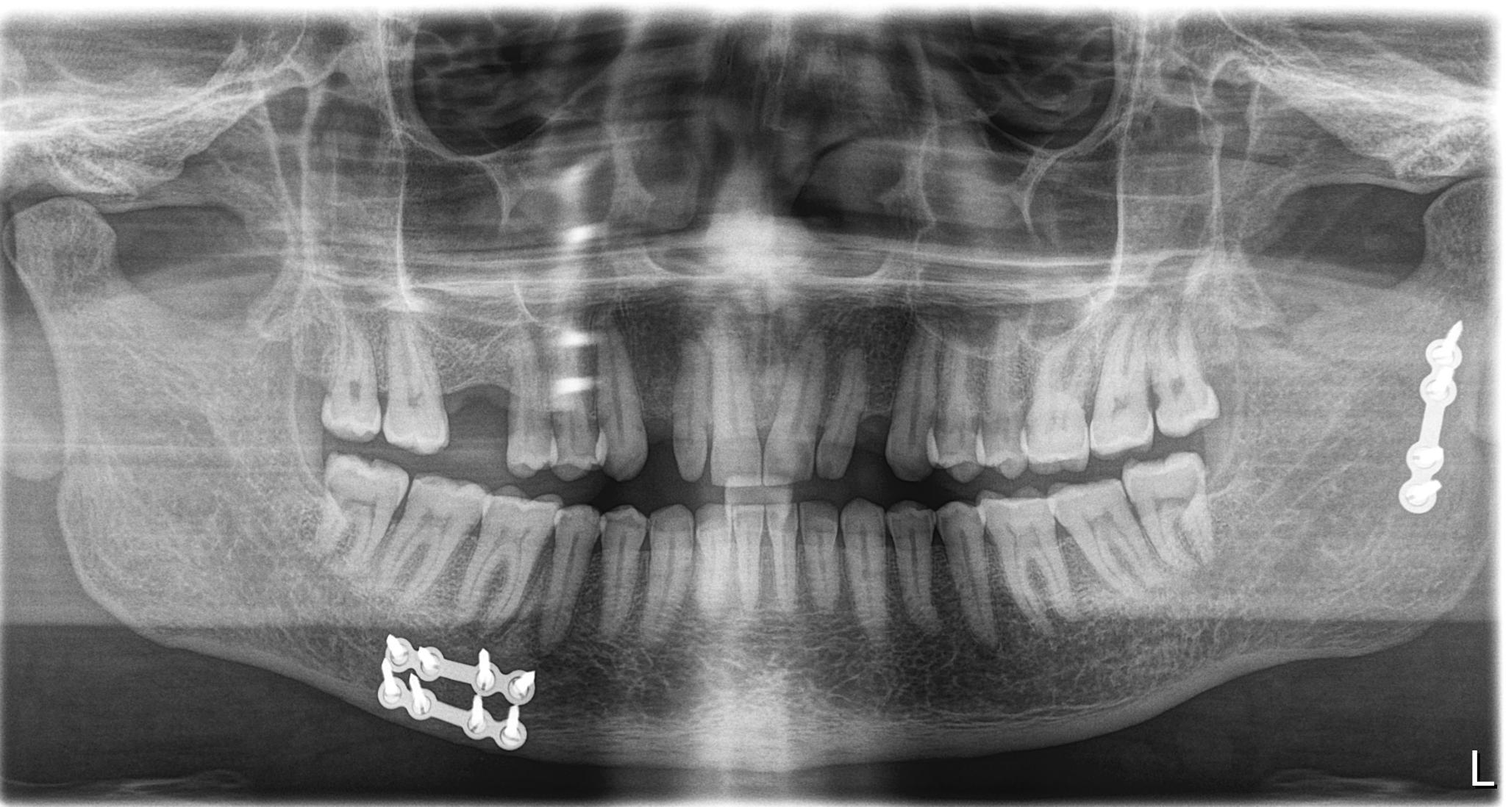Missing Tooth: (438, 351, 510, 470), (636, 366, 674, 464)
